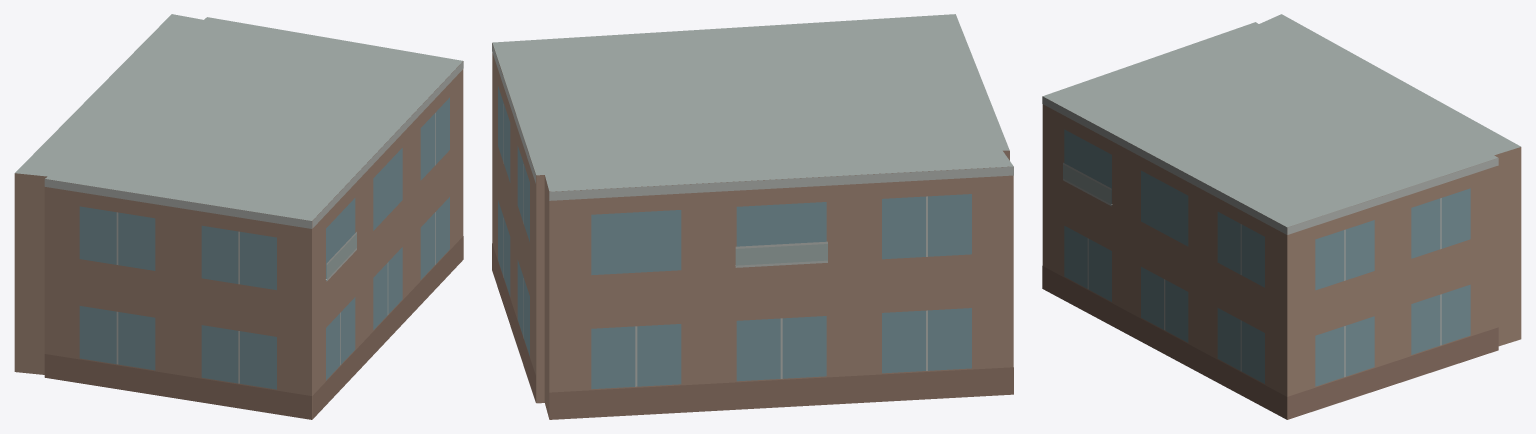
Rendered from survey-upis-32964814.glb.
3 renders of one model, left to right at view 1: azimuth 30°, elevation 25°; view 2: azimuth 150°, elevation 25°; view 3: azimuth 270°, elevation 25°, orthographic. The views are drawn at different scales.
Parts seen in each view (by area): view 1: survey-upis-32964814.tmp; view 2: survey-upis-32964814.tmp; view 3: survey-upis-32964814.tmp.
Boxes of the visible parts, bbox=[...] form: survey-upis-32964814.tmp: bbox=[14, 14, 463, 419]; survey-upis-32964814.tmp: bbox=[492, 14, 1013, 419]; survey-upis-32964814.tmp: bbox=[1042, 14, 1521, 419].
Size of the model in its own units: 14.51 by 6.1 by 13.76.
